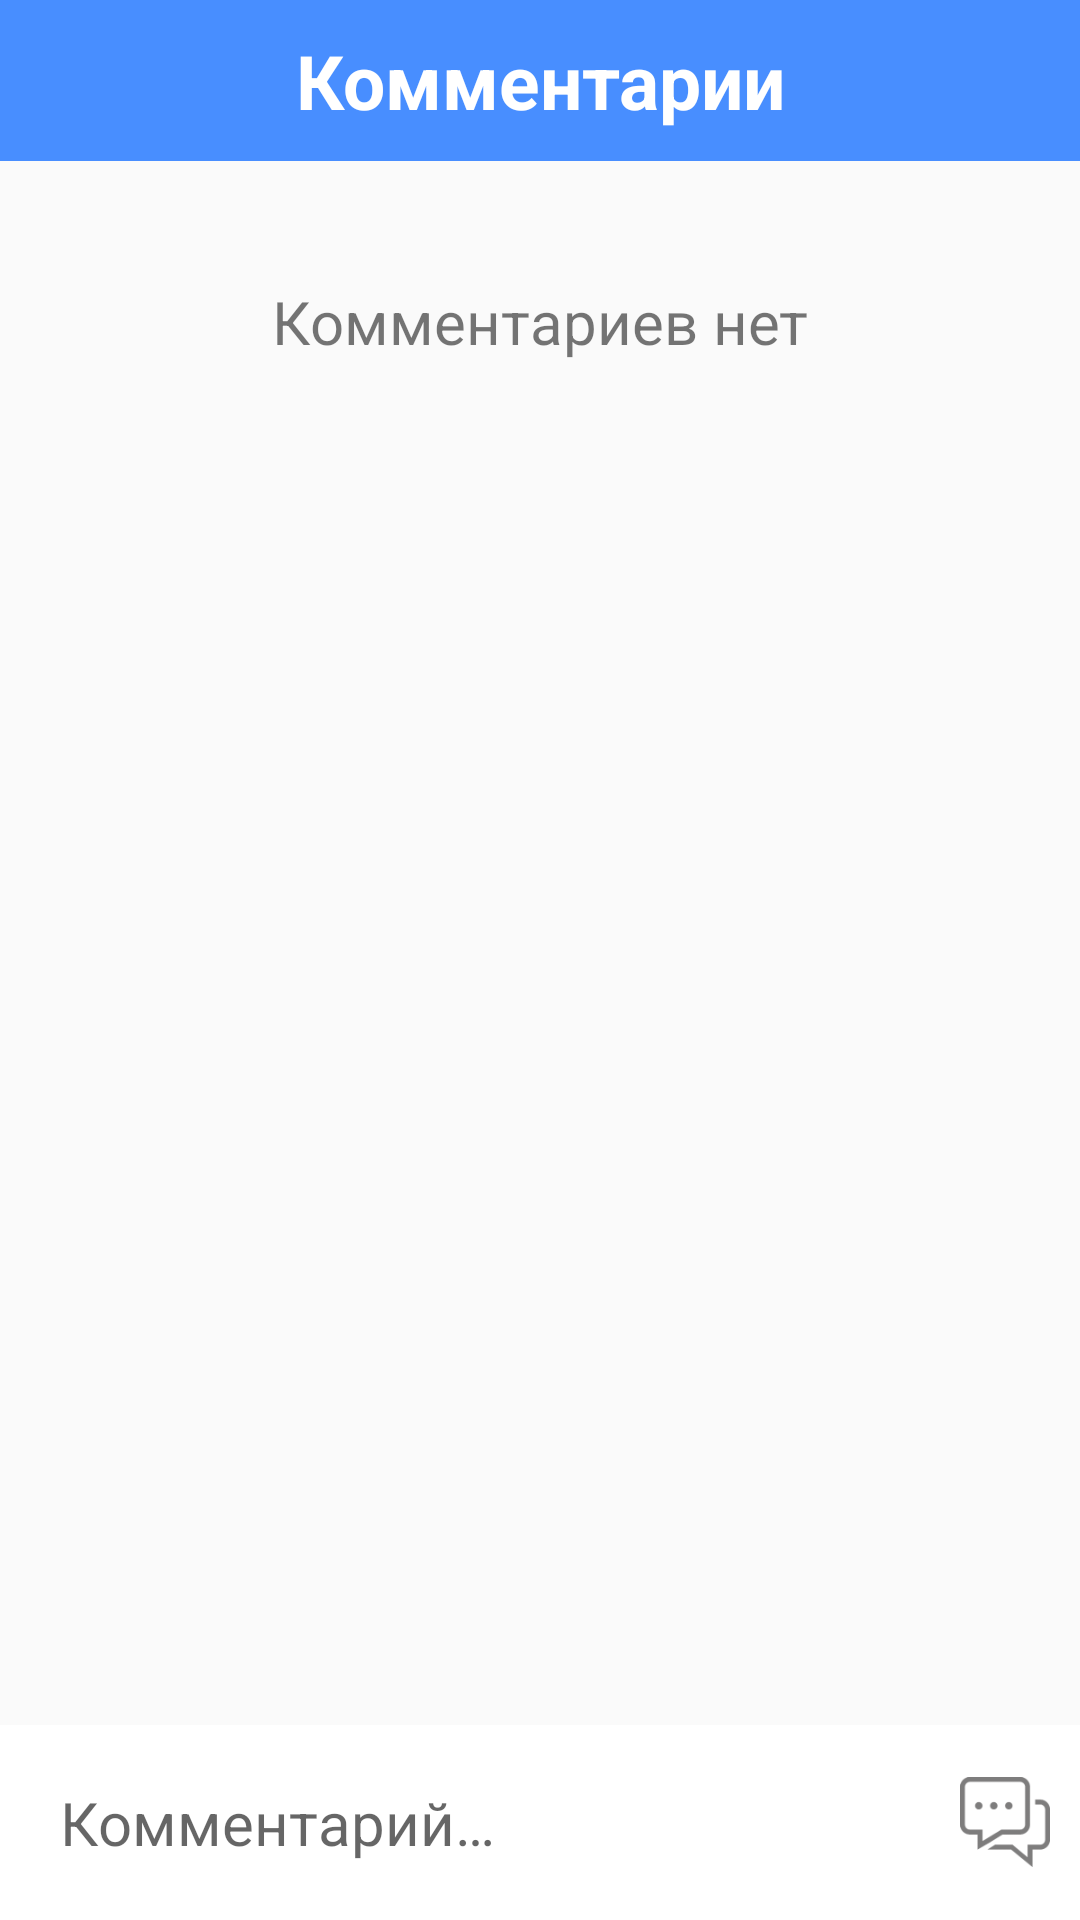

Screen size 1080*1920. Icon name, then its center in pixels as (x,y):
send comment: (1005,1822)
